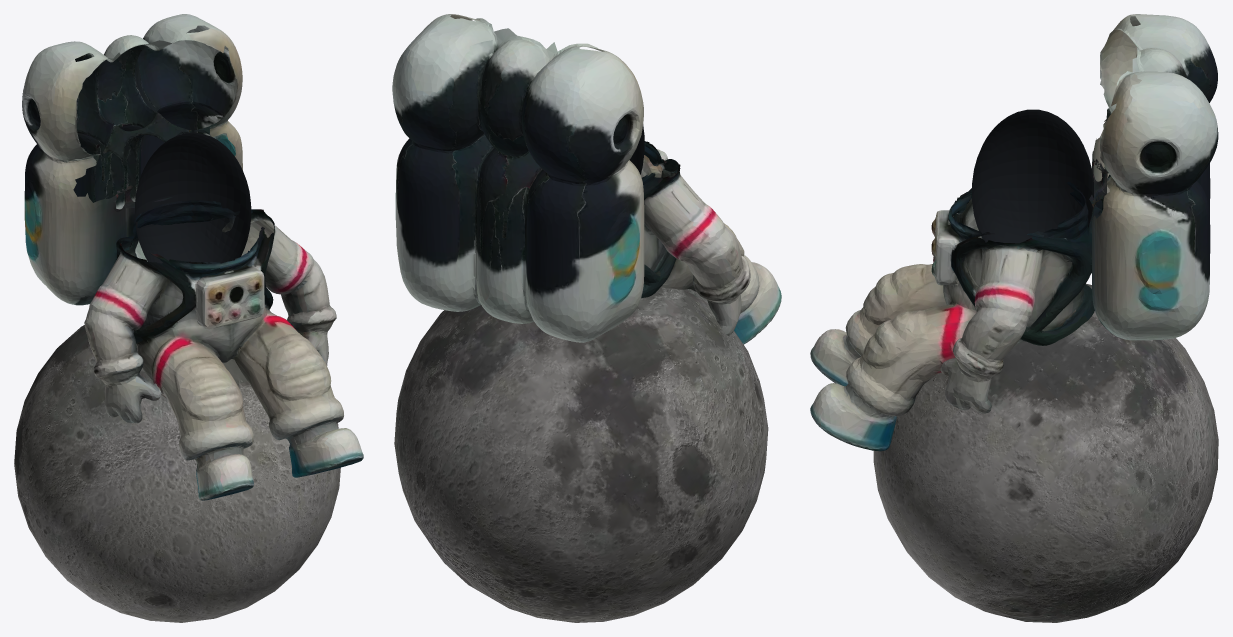
The model's file is astronaut_body.glb.
3 renders of one model, left to right at view 1: azimuth 30°, elevation 25°; view 2: azimuth 150°, elevation 25°; view 3: azimuth 270°, elevation 25°, orthographic. The views are drawn at different scales.
Visible parts, largest first — view 1: Moon_Cube002; view 2: Moon_Cube002; view 3: Moon_Cube002.
Part boxes in pixels (x1,y1,x2,y2): Moon_Cube002: [14, 14, 363, 622]; Moon_Cube002: [392, 14, 781, 622]; Moon_Cube002: [810, 14, 1218, 622].
Size of the model in its own units: 1.13 by 2.03 by 1.34.
Materials: 3 (2 with a texture image).
